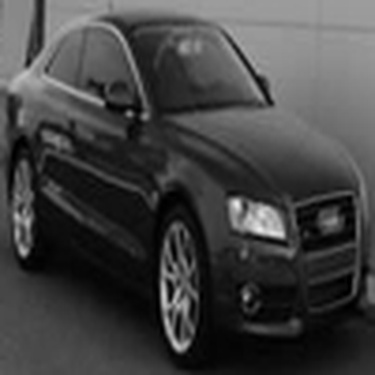car: (3, 3, 368, 371)
